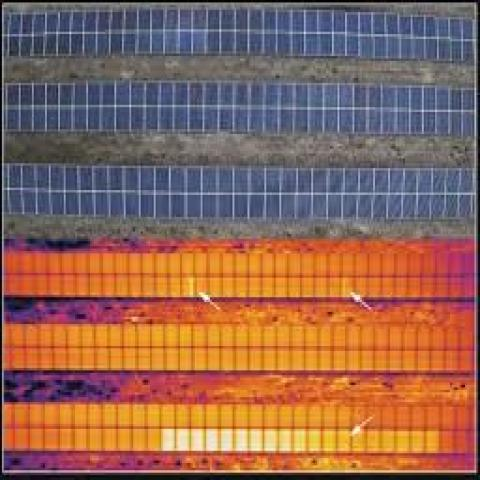fault: (262, 429, 282, 453), (174, 426, 192, 451), (190, 426, 206, 453), (232, 426, 248, 453), (248, 426, 264, 453), (204, 426, 220, 451), (290, 429, 308, 451), (160, 426, 174, 453), (220, 426, 234, 451), (280, 429, 292, 453), (188, 278, 193, 297)
